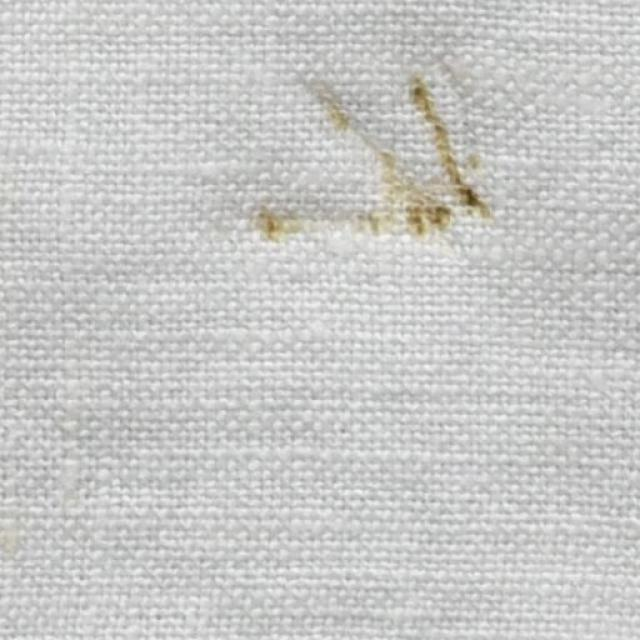Stain: (252, 52, 491, 234)
